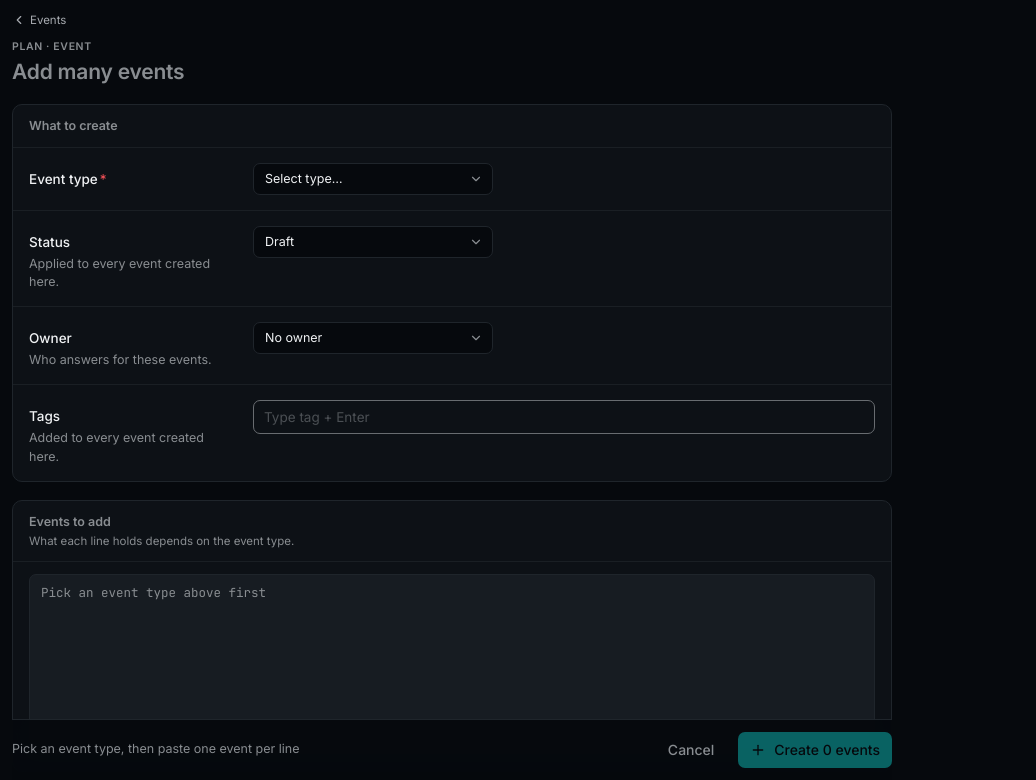
Test: EventBulkForm before anything is chosen › opens on a muted next step and shows where the events will go
The width and height of the screenshot is (1036, 780).
Expected: the message "Pick an event type, then paste one event per line" is shown, [12,742,300,757]
Expected: the text box named "Events to create" is disabled, [29,574,875,754]
Select "Plain" in the dropdown labelled "Event type" at (373, 179), box [253,163,493,195]
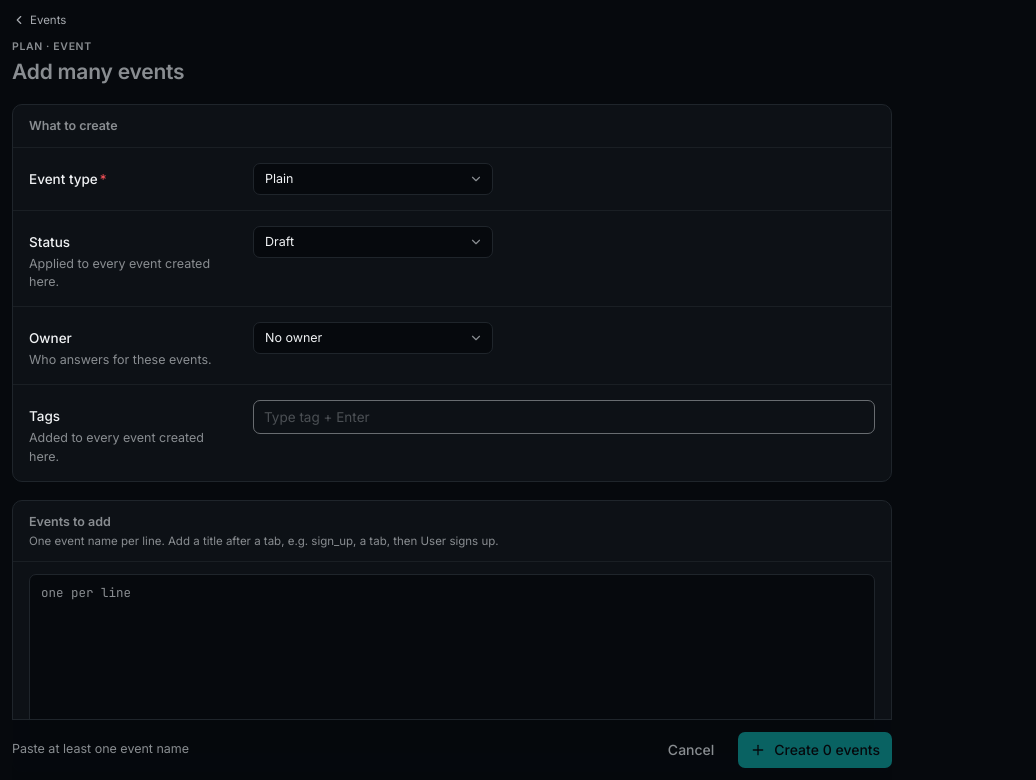
Expected: the text box named "Events to create" is enabled, [29,574,875,754]
